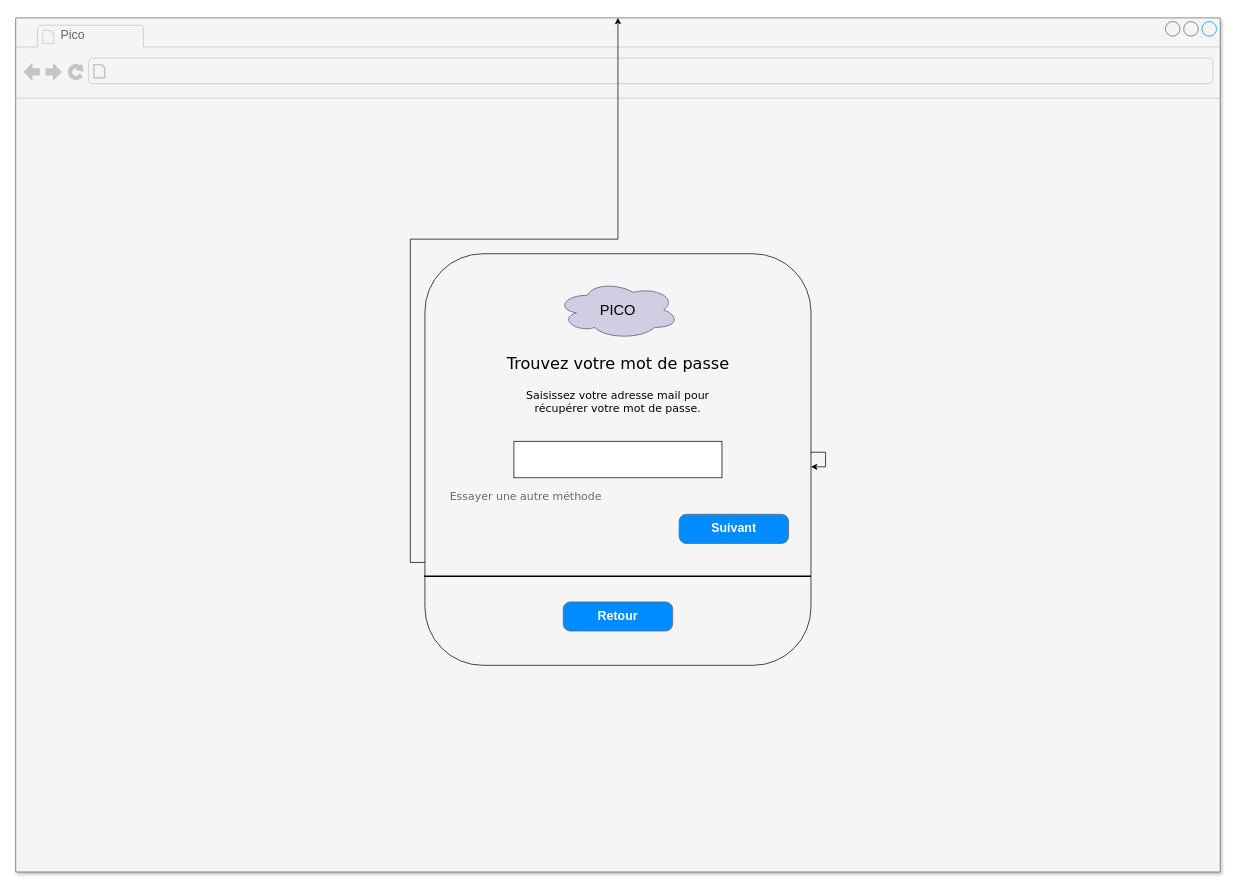
This 1237x890 diagram has some shape labels left out. Here are the shapes that lost their labels. From the top down, the centre of each, then its label:
At pixel 201 71: "https://www.pico.fr/signin/lost".
At pixel 617 459: "Adresse mail".
